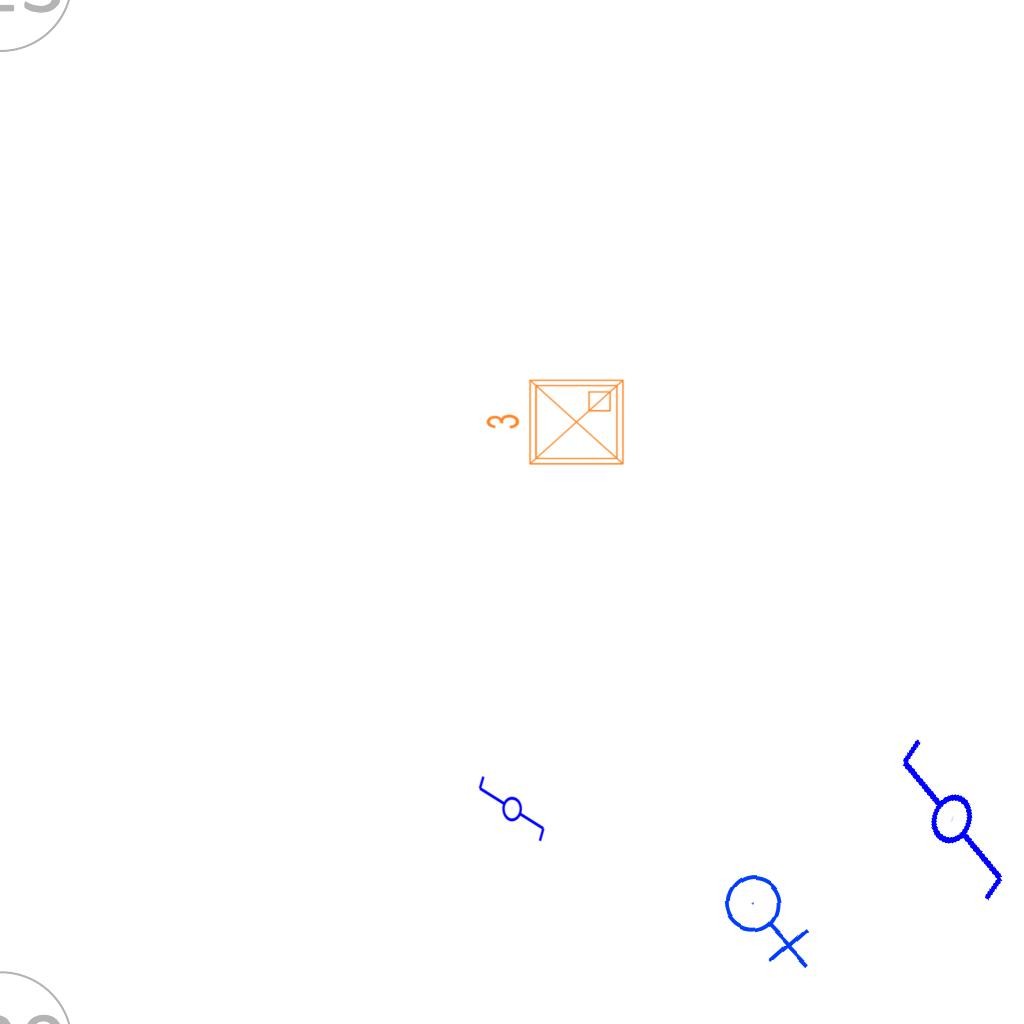Einbaudownlights_LED_Konferenzraeume: (481, 372, 631, 476)
Elektroanschluss_allgemein_230V_Geraeteanschlussdose_230V: (719, 864, 820, 970)
Wechselschalter: (863, 715, 1024, 909), (475, 774, 547, 852)
